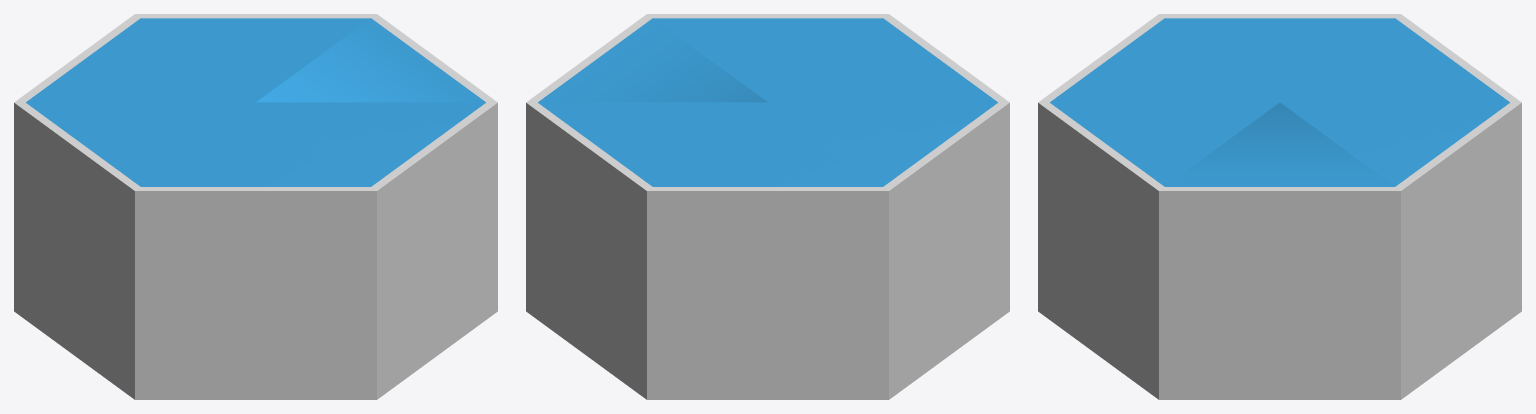
The model's file is Hexagon_Border6.fbx.
The picture shows the model from 3 angles, left to right: view 1: azimuth 30°, elevation 25°; view 2: azimuth 150°, elevation 25°; view 3: azimuth 270°, elevation 25°; orthographic projection.
Parts seen in each view (by area): view 1: Cylinder.001; view 2: Cylinder.001; view 3: Cylinder.001.
Boxes of the visible parts, x1,y1,x2,y2 form: Cylinder.001: (14,14,497,399); Cylinder.001: (526,14,1009,399); Cylinder.001: (1038,14,1521,399).
Size of the model in its own units: 1.82 by 1 by 2.1.
